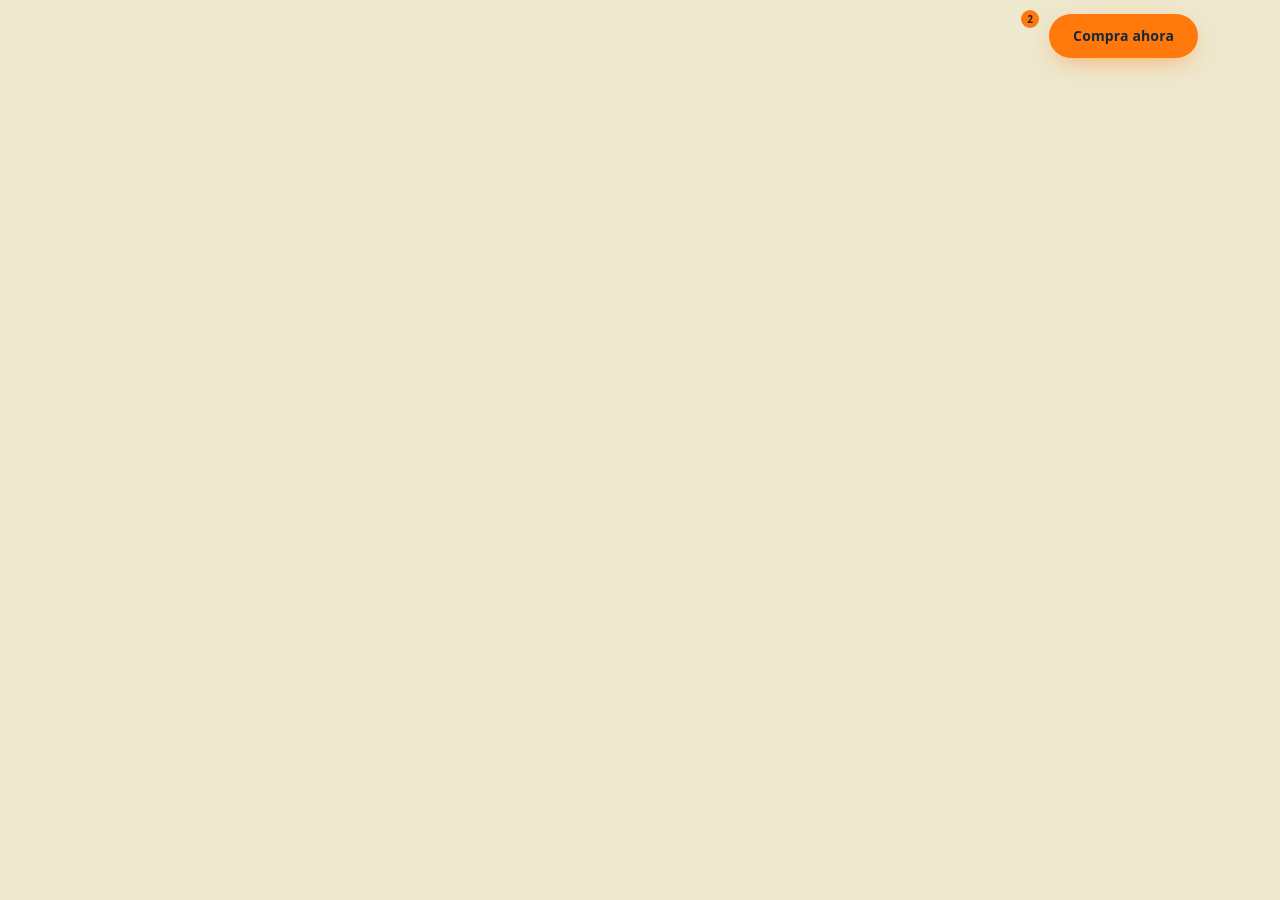
Test: Header › names the cart button after its contents and opens the cart drawer
Click the button named "Carrito, 2 artículos" at (1013, 36), box top-left (991, 14), bottom-right (1035, 58)
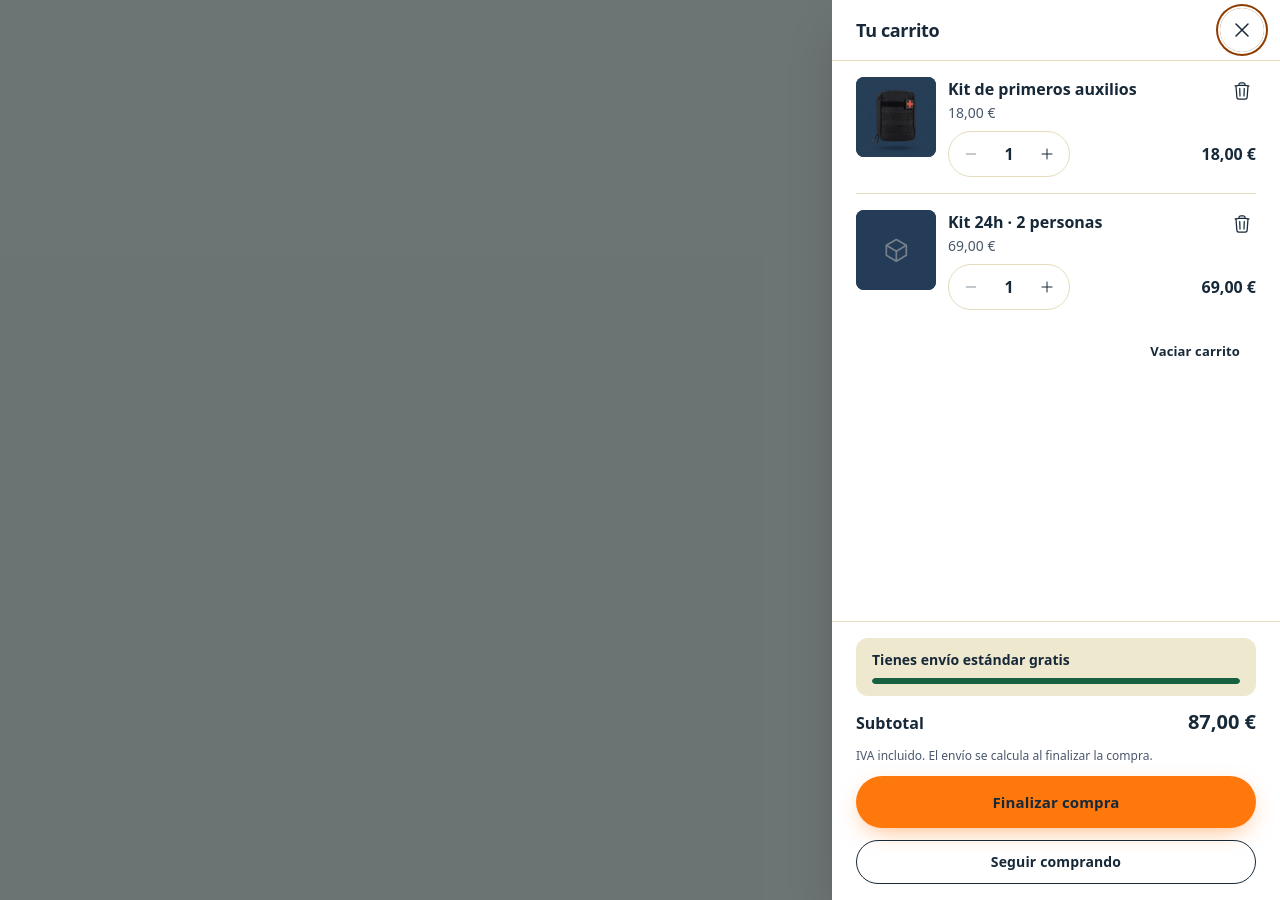
Check: the dialog "Tu carrito" is shown, box top-left (832, 0), bottom-right (1279, 899)
